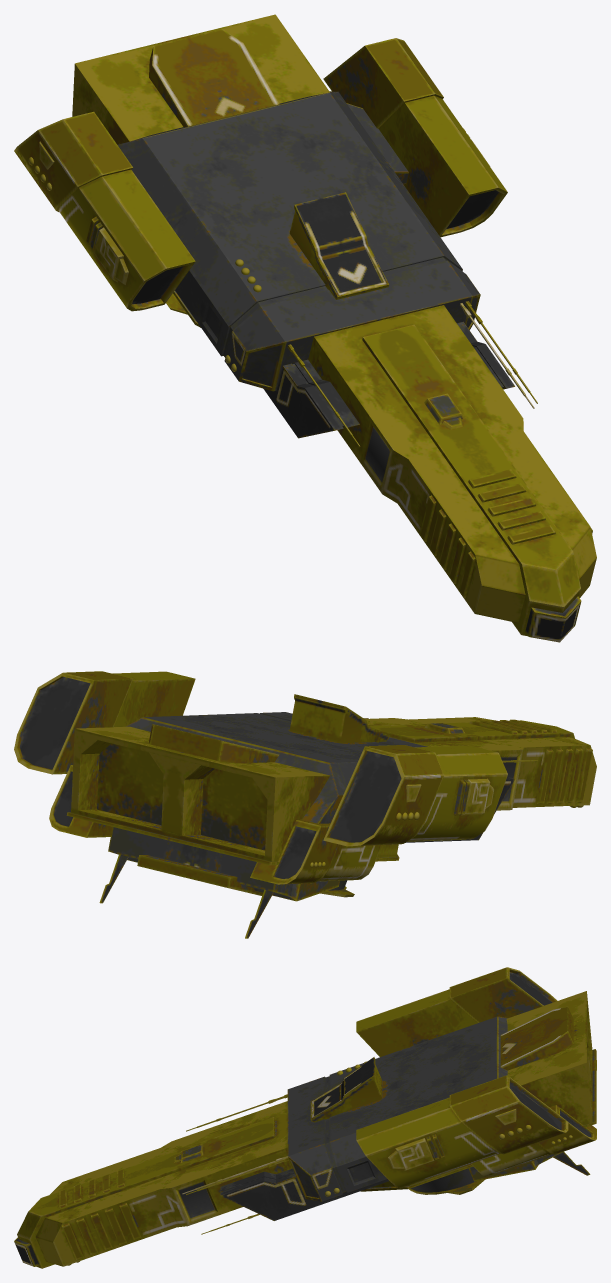
File: Insurgent.fbx
3 renders of one model, top to bottom at view 1: azimuth 30°, elevation 25°; view 2: azimuth 150°, elevation 25°; view 3: azimuth 270°, elevation 25°, orthographic. The views are drawn at different scales.
Parts seen in each view (by area): view 1: Insurgent; view 2: Insurgent; view 3: Insurgent.
Boxes of the visible parts, x1,y1,x2,y2 form: Insurgent: (14,14,596,642); Insurgent: (14,671,596,938); Insurgent: (14,967,596,1268).
Size of the model in its own units: 382 by 328 by 707.
